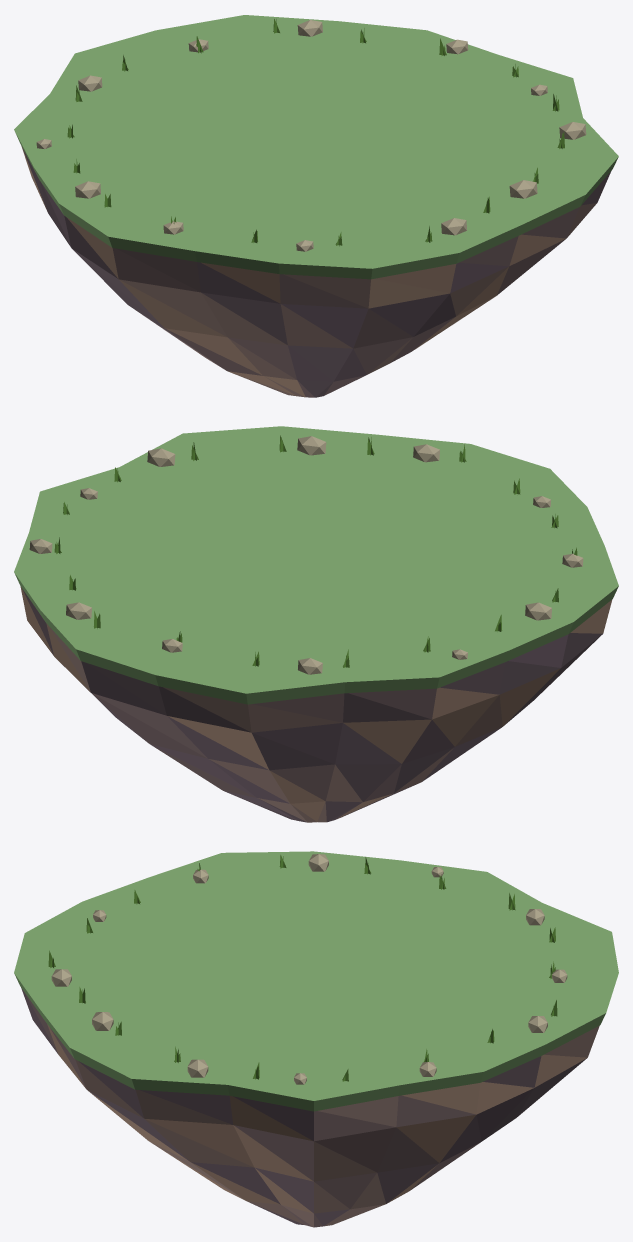
File: island_base_02.glb
The picture shows the model from 3 angles, top to bottom: view 1: azimuth 30°, elevation 25°; view 2: azimuth 150°, elevation 25°; view 3: azimuth 270°, elevation 25°; orthographic projection. The views are drawn at different scales.
Parts seen in each view (by area): view 1: island_base_02; view 2: island_base_02; view 3: island_base_02.
Boxes of the visible parts, left/top/right/bottom form: island_base_02: left=14, top=15, right=618, bottom=397; island_base_02: left=14, top=426, right=618, bottom=822; island_base_02: left=14, top=851, right=618, bottom=1227.
Size of the model in its own units: 9.07 by 4.38 by 9.29.
